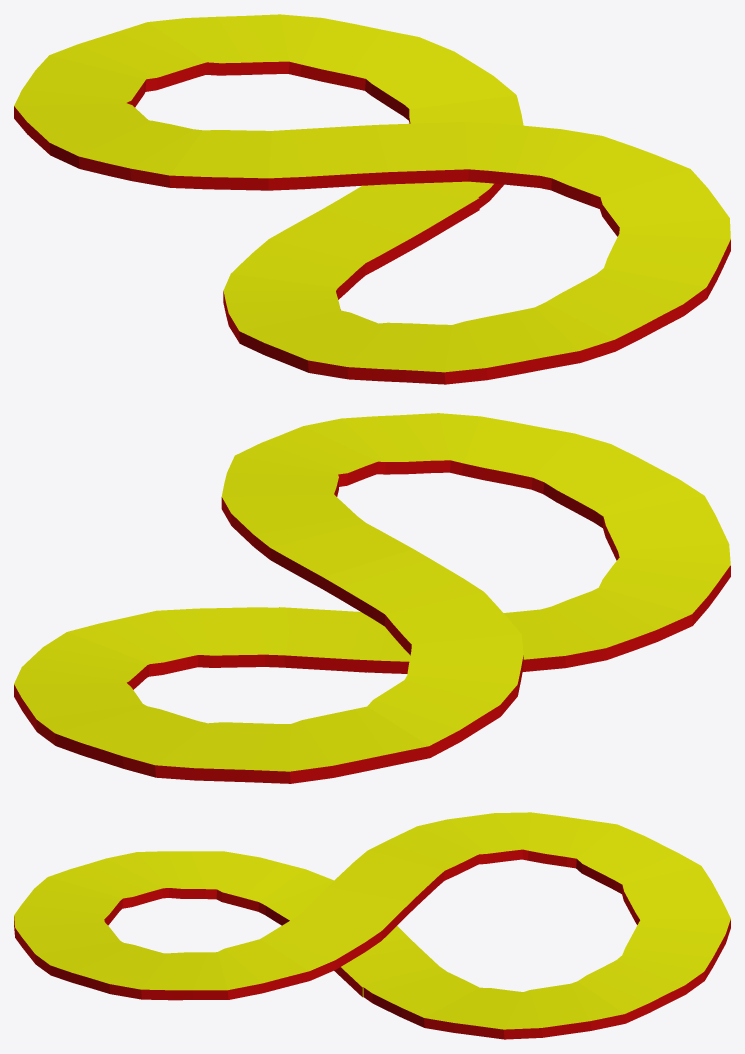
File: SM_WaterShape_InfiniteLoop_001.fbx
3 renders of one model, top to bottom at view 1: azimuth 30°, elevation 25°; view 2: azimuth 150°, elevation 25°; view 3: azimuth 270°, elevation 25°, orthographic. The views are drawn at different scales.
Visible parts, largest first — view 1: Cube.016; view 2: Cube.016; view 3: Cube.016.
Boxes of the visible parts, x1=… form: Cube.016: x1=14, y1=14, x2=730, y2=384; Cube.016: x1=14, y1=413, x2=730, y2=783; Cube.016: x1=14, y1=812, x2=730, y2=1039.
Size of the model in its own units: 1802 by 314 by 3051.
